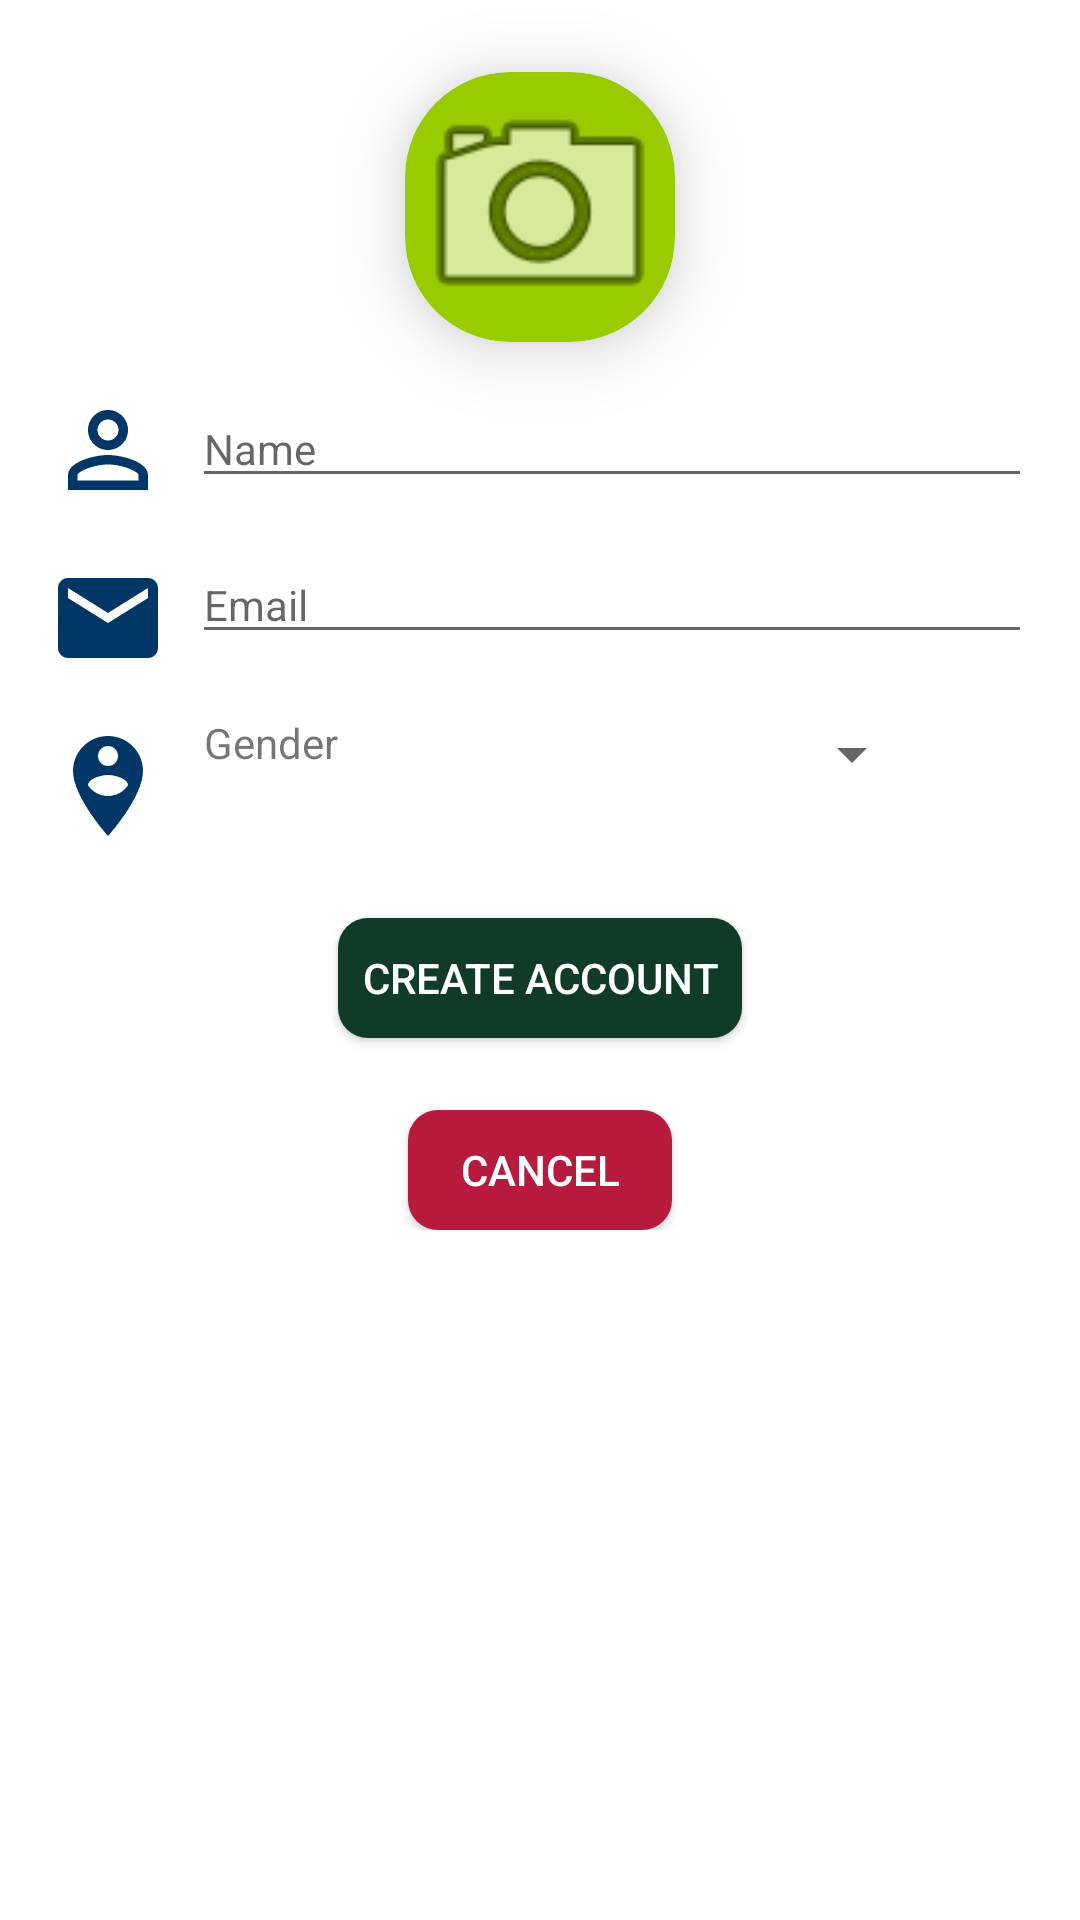

Icon bounding boxes for this 1080*1920 phone screenshot, format (x1, y1, x2, y2):
camera: (405, 72, 675, 342)
